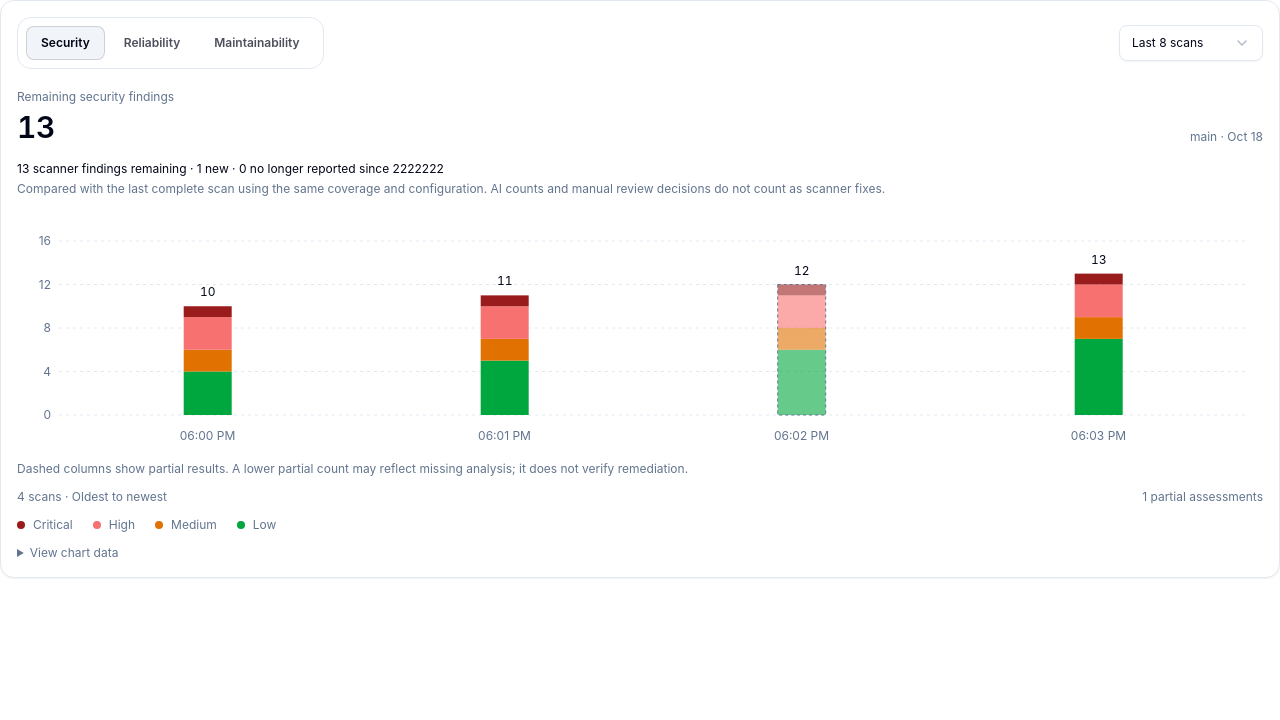
shows severity stacks for each category without joining scans
This screenshot has width=1280, height=720.
Expected: the text "13" is shown, [17,109,54,145]
Click the tab "Reliability".
click(152, 43)  # box [109,26,195,60]
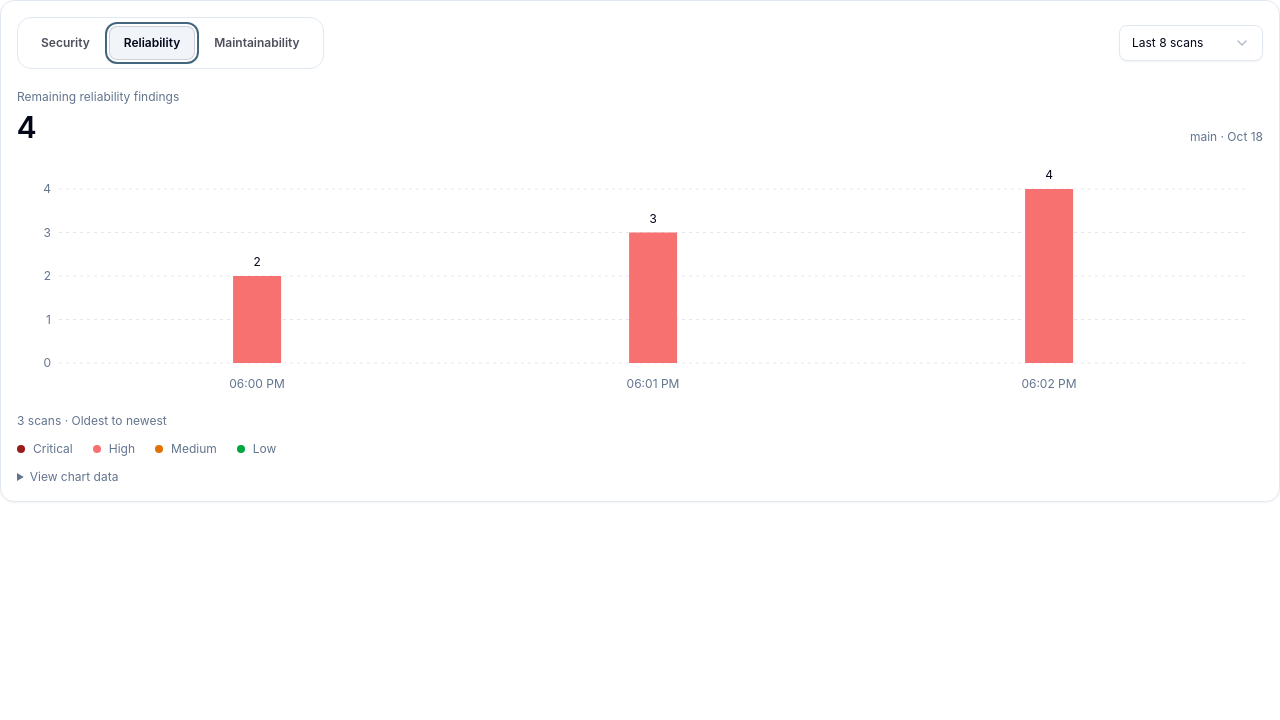
Now the text "4" is shown, box [17,109,36,145]
Now the text "3 scans · Oldest to newest" is shown, box [17,413,167,429]
Click the tab "Maintainability".
click(257, 43)  # box [199,26,315,60]
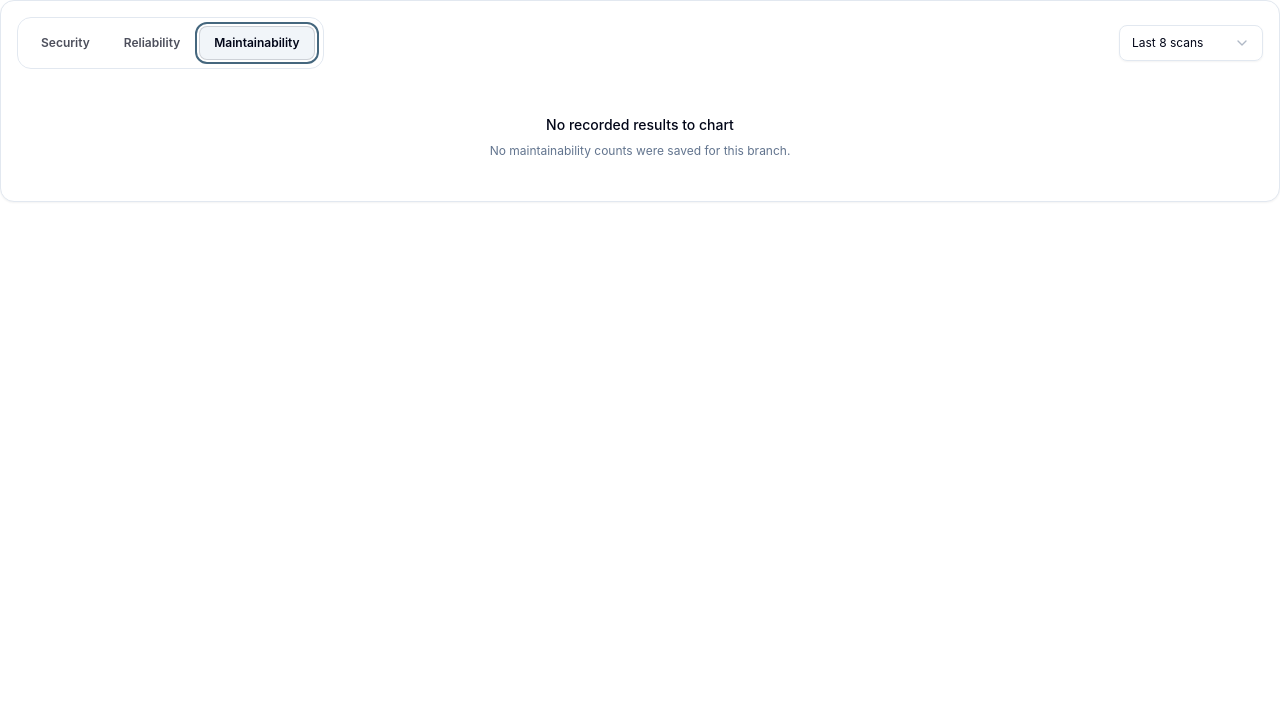
Now the text "No recorded results to chart" is shown, box [546,115,734,135]
